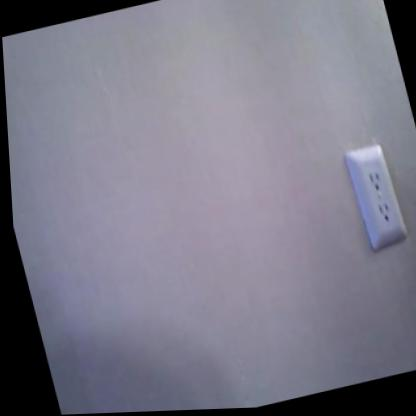OUTLET: (344, 140, 409, 252)
